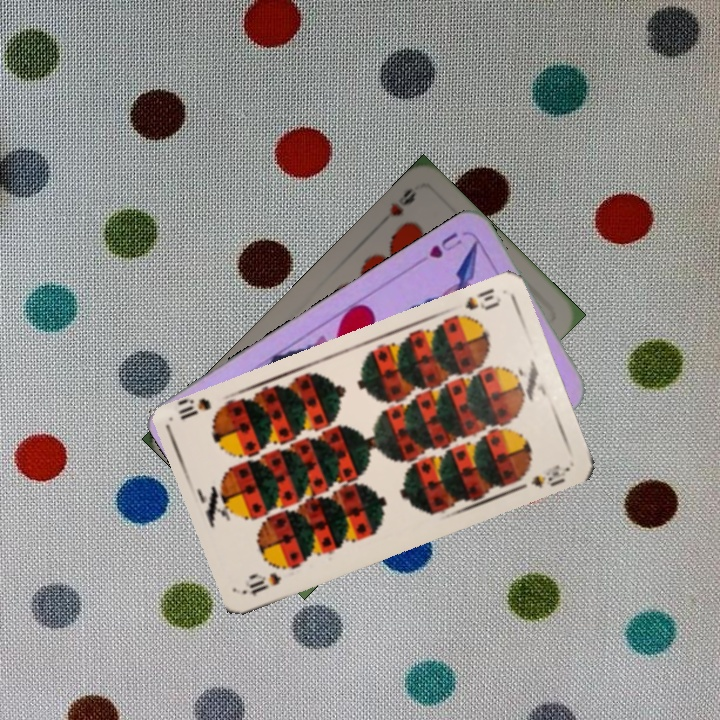H9: (385, 184, 420, 219)
HU: (424, 228, 465, 262)
S10: (448, 284, 504, 324), (240, 568, 284, 598)
